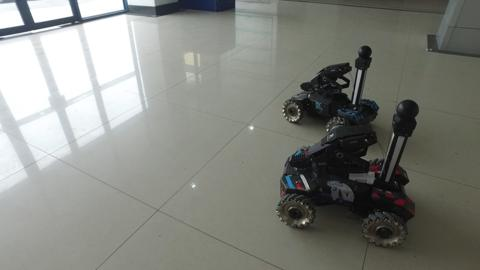chariot: (274, 91, 422, 260), (279, 39, 381, 138)
